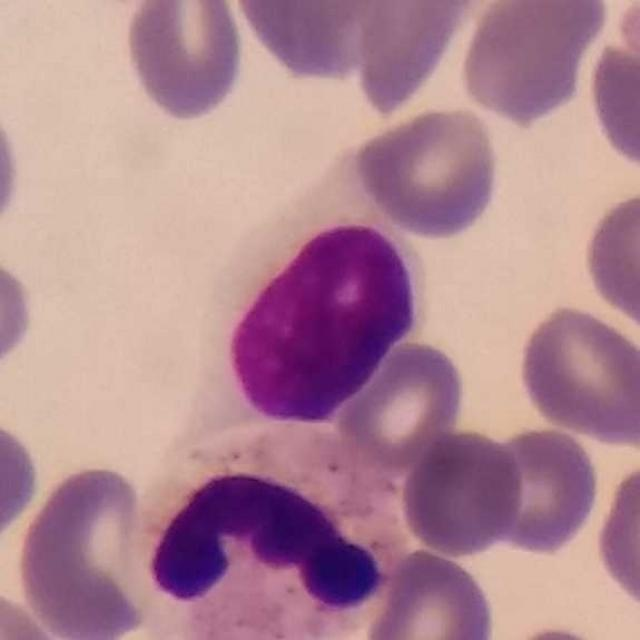Lymphocyte: (201, 164, 433, 428)
Neutrophil: (133, 426, 400, 640)
RBC: (12, 459, 163, 640), (353, 104, 503, 242), (455, 0, 611, 128), (513, 300, 640, 448), (344, 0, 491, 124), (332, 336, 468, 469), (396, 425, 526, 559), (478, 423, 604, 558), (119, 0, 249, 126), (230, 0, 412, 86), (362, 545, 498, 640), (579, 185, 640, 337), (584, 19, 640, 180), (592, 455, 640, 619), (0, 410, 43, 556), (0, 247, 39, 384), (0, 583, 70, 640), (0, 89, 24, 246)
